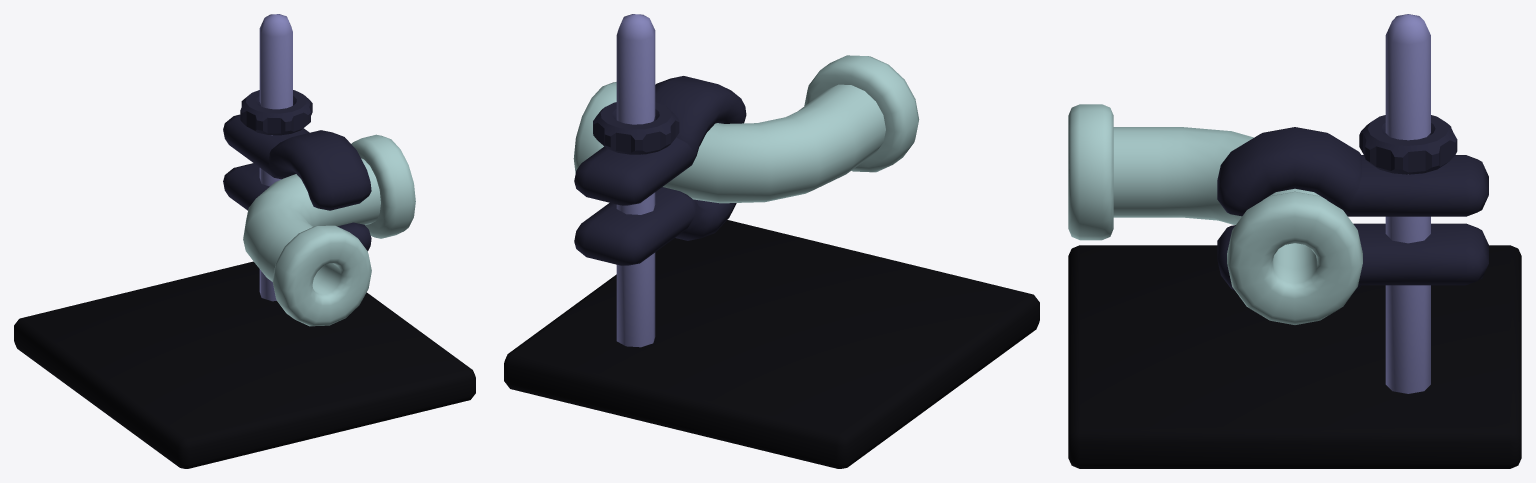
File: LastLuna_Model_Station_Pipe_Curve.fbx
The picture shows the model from 3 angles, left to right: view 1: azimuth 30°, elevation 25°; view 2: azimuth 150°, elevation 25°; view 3: azimuth 270°, elevation 25°; orthographic projection. The views are drawn at different scales.
Parts seen in each view (by area): view 1: Stand_Base_Small001, Pipe_Curve001, Pipe_Arm_Clamp001, Stand_Pole_Small001, Pipe_Arm_Clamp_Handle001; view 2: Stand_Base_Small001, Pipe_Curve001, Pipe_Arm_Clamp001, Stand_Pole_Small001, Pipe_Arm_Clamp_Handle001; view 3: Stand_Base_Small001, Pipe_Curve001, Pipe_Arm_Clamp001, Stand_Pole_Small001, Pipe_Arm_Clamp_Handle001.
Boxes of the visible parts, box(x1,y1,x2,y2) form: Stand_Base_Small001: box(14, 261, 475, 468); Pipe_Curve001: box(243, 134, 415, 326); Pipe_Arm_Clamp001: box(223, 114, 371, 250); Stand_Pole_Small001: box(259, 14, 292, 301); Pipe_Arm_Clamp_Handle001: box(240, 90, 312, 135); Stand_Base_Small001: box(504, 220, 1039, 468); Pipe_Curve001: box(573, 55, 919, 203); Pipe_Arm_Clamp001: box(574, 76, 746, 265); Stand_Pole_Small001: box(616, 14, 655, 347); Pipe_Arm_Clamp_Handle001: box(593, 102, 679, 154); Stand_Base_Small001: box(1068, 245, 1521, 468); Pipe_Curve001: box(1068, 104, 1362, 324); Pipe_Arm_Clamp001: box(1217, 127, 1488, 290); Stand_Pole_Small001: box(1385, 14, 1430, 393); Pipe_Arm_Clamp_Handle001: box(1359, 115, 1457, 174).
Size of the model in its own units: 39.37 by 39.37 by 39.37.
